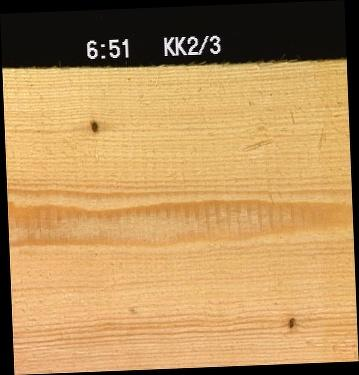dry_knot: (285, 314, 295, 329), (89, 119, 98, 134)
